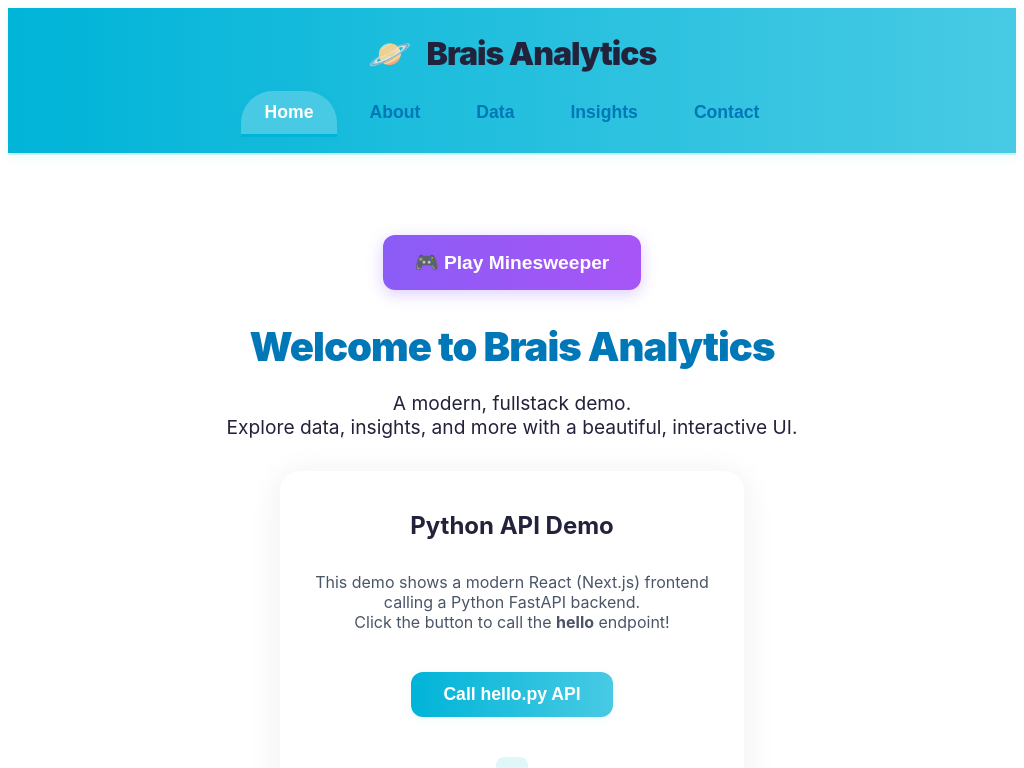
Scenario: Professional UI with Tabs › switches to About tab and shows About content
Click the tab with test id "tab-about".
click(395, 114)  # box left=346, top=91, right=444, bottom=137
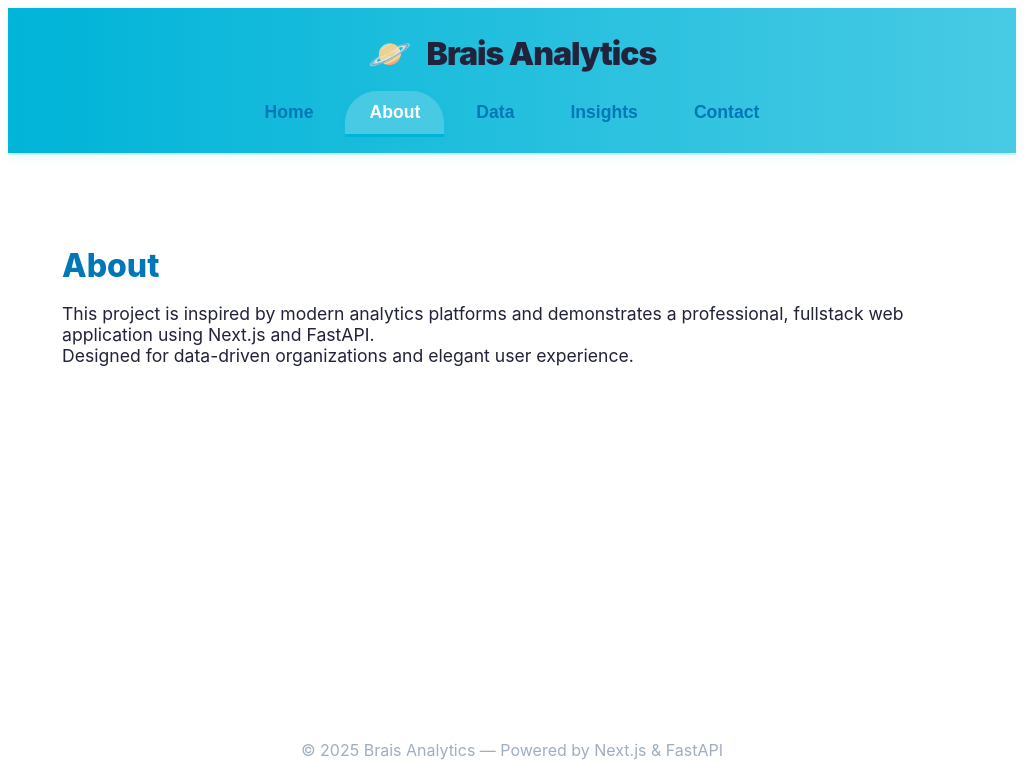
Check: the heading "About" is shown, box left=62, top=246, right=159, bottom=285
Check: the text "This project is inspired by modern analytics platforms" is shown, box left=62, top=302, right=904, bottom=344
